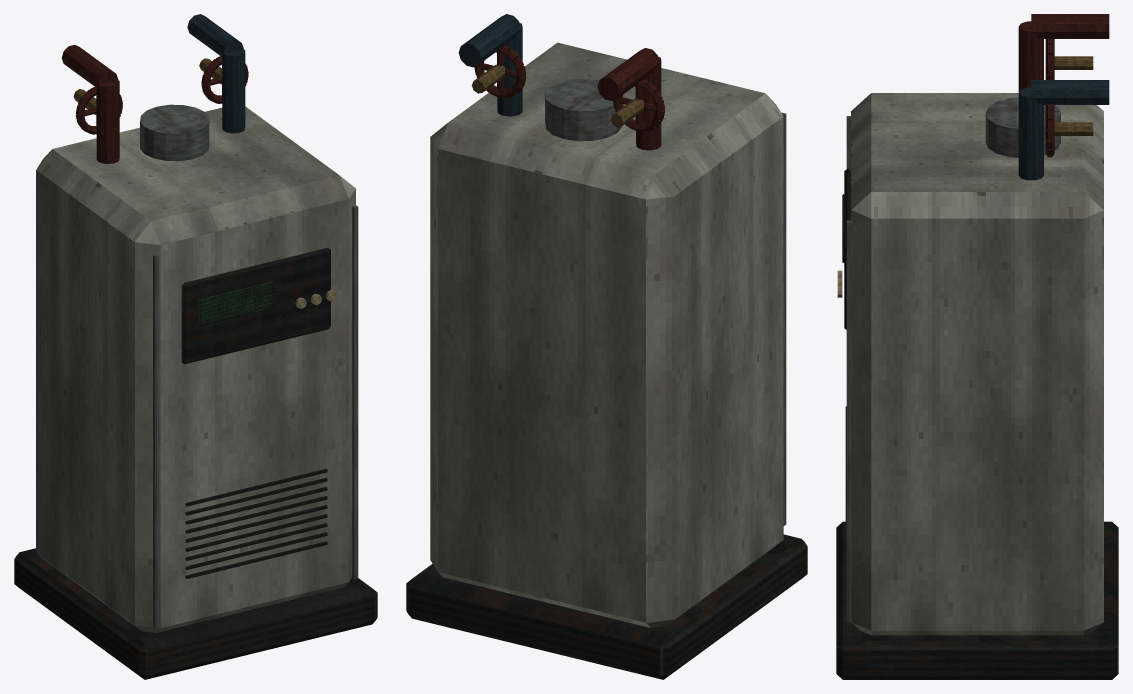
File: level_boiler_modern_worn.glb
3 renders of one model, left to right at view 1: azimuth 30°, elevation 25°; view 2: azimuth 150°, elevation 25°; view 3: azimuth 270°, elevation 25°, orthographic. The views are drawn at different scales.
Parts seen in each view (by area): view 1: level_boiler_modern_worn; view 2: level_boiler_modern_worn; view 3: level_boiler_modern_worn.
Boxes of the visible parts, bbox=[...] form: level_boiler_modern_worn: bbox=[14, 14, 377, 679]; level_boiler_modern_worn: bbox=[406, 14, 807, 679]; level_boiler_modern_worn: bbox=[836, 14, 1118, 679].
Bounding box in the file's own units: 1.1 × 2.34 × 1.05.
8 materials, 8 textured.
